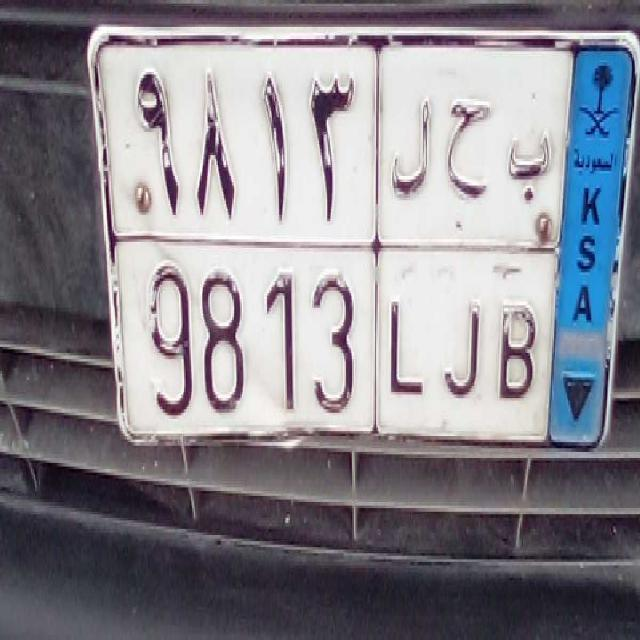license_plate: (127, 238, 550, 448)
